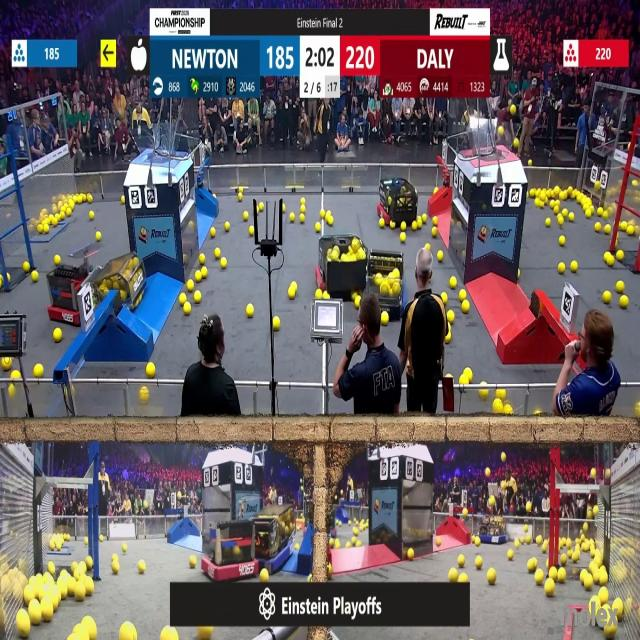ball_airborne: (587, 509, 595, 521), (489, 496, 496, 506), (514, 138, 520, 148), (511, 106, 517, 116), (593, 505, 598, 516), (500, 481, 506, 490), (501, 451, 506, 461), (486, 470, 491, 480), (498, 128, 503, 136)
ball_ground: (19, 617, 32, 639), (122, 624, 137, 640), (199, 626, 213, 640), (42, 607, 53, 624), (604, 625, 616, 640), (75, 586, 85, 602), (544, 581, 553, 597), (534, 570, 544, 584), (1, 357, 11, 371), (599, 589, 608, 604), (488, 568, 496, 584), (146, 362, 155, 376), (585, 575, 594, 589), (87, 582, 95, 597), (450, 568, 459, 581), (493, 399, 502, 412), (558, 569, 566, 583), (138, 560, 146, 574), (621, 294, 629, 308), (599, 570, 607, 584), (273, 317, 281, 330), (35, 363, 43, 376), (55, 331, 63, 344), (528, 559, 536, 572), (262, 569, 270, 582), (90, 626, 98, 639), (163, 628, 172, 639), (570, 262, 578, 274), (461, 302, 469, 314), (186, 280, 194, 292), (602, 290, 610, 302), (464, 367, 472, 379), (188, 556, 196, 568), (381, 314, 389, 326), (605, 253, 613, 265), (474, 557, 482, 568), (617, 250, 625, 261), (193, 290, 200, 302), (458, 555, 465, 567), (618, 281, 625, 293), (246, 306, 253, 318), (183, 304, 190, 316), (288, 286, 295, 298), (448, 311, 455, 323), (88, 557, 95, 569), (459, 573, 468, 582), (450, 278, 458, 288), (496, 389, 504, 399), (481, 389, 489, 399), (12, 369, 20, 379), (635, 403, 640, 419), (408, 550, 415, 561), (354, 296, 361, 307), (561, 554, 568, 565), (112, 562, 118, 574), (504, 407, 512, 416), (551, 568, 557, 580), (8, 386, 14, 398), (572, 552, 578, 564), (48, 562, 54, 574), (194, 272, 201, 282), (24, 263, 30, 274), (559, 264, 565, 275), (460, 289, 466, 300), (32, 272, 38, 283), (220, 257, 226, 268), (316, 289, 323, 298), (322, 290, 329, 299), (421, 214, 428, 223), (445, 335, 452, 344), (180, 293, 186, 303), (559, 236, 565, 246), (380, 218, 386, 228), (214, 248, 220, 258), (399, 234, 405, 244), (200, 254, 206, 264), (249, 225, 255, 235), (443, 292, 449, 302), (596, 222, 602, 232), (568, 212, 574, 222), (604, 224, 610, 234), (202, 269, 208, 279), (628, 224, 634, 234), (326, 215, 332, 225), (439, 251, 445, 261), (558, 215, 564, 225), (43, 223, 49, 233), (621, 222, 628, 230), (525, 536, 532, 544), (507, 551, 513, 560), (90, 211, 96, 220), (587, 209, 593, 218), (541, 543, 547, 552), (88, 193, 94, 202), (244, 211, 249, 221), (544, 218, 550, 226), (435, 537, 441, 545), (474, 537, 480, 545), (554, 206, 560, 214), (530, 188, 536, 196), (336, 540, 342, 548), (97, 233, 102, 242), (316, 222, 321, 231), (56, 255, 61, 264), (299, 214, 304, 223), (413, 221, 418, 230), (258, 203, 263, 212), (211, 229, 216, 238), (67, 208, 72, 217), (329, 537, 334, 546), (538, 201, 544, 208), (562, 209, 568, 216), (238, 193, 244, 200), (400, 222, 405, 230), (290, 212, 294, 222), (112, 554, 117, 562), (347, 540, 352, 548), (536, 536, 541, 544), (595, 208, 600, 216), (224, 221, 228, 230), (432, 229, 436, 238), (432, 216, 436, 225), (516, 539, 520, 548), (352, 536, 356, 545), (390, 221, 395, 228), (299, 206, 304, 213), (524, 525, 529, 532), (356, 540, 361, 547), (122, 543, 126, 551), (320, 210, 324, 218), (84, 536, 88, 544), (0, 275, 4, 283), (299, 199, 304, 205), (282, 205, 286, 212), (354, 528, 358, 535), (339, 521, 343, 528), (426, 244, 430, 250), (100, 535, 104, 541), (295, 543, 299, 549), (120, 198, 123, 205)
goal: (464, 123, 521, 160), (128, 130, 187, 160)
robot_blue: (98, 256, 148, 318), (364, 248, 406, 318), (253, 512, 296, 574), (478, 516, 508, 544)
robot_red: (200, 520, 256, 580), (317, 231, 369, 294), (48, 262, 92, 326), (377, 178, 419, 226)
